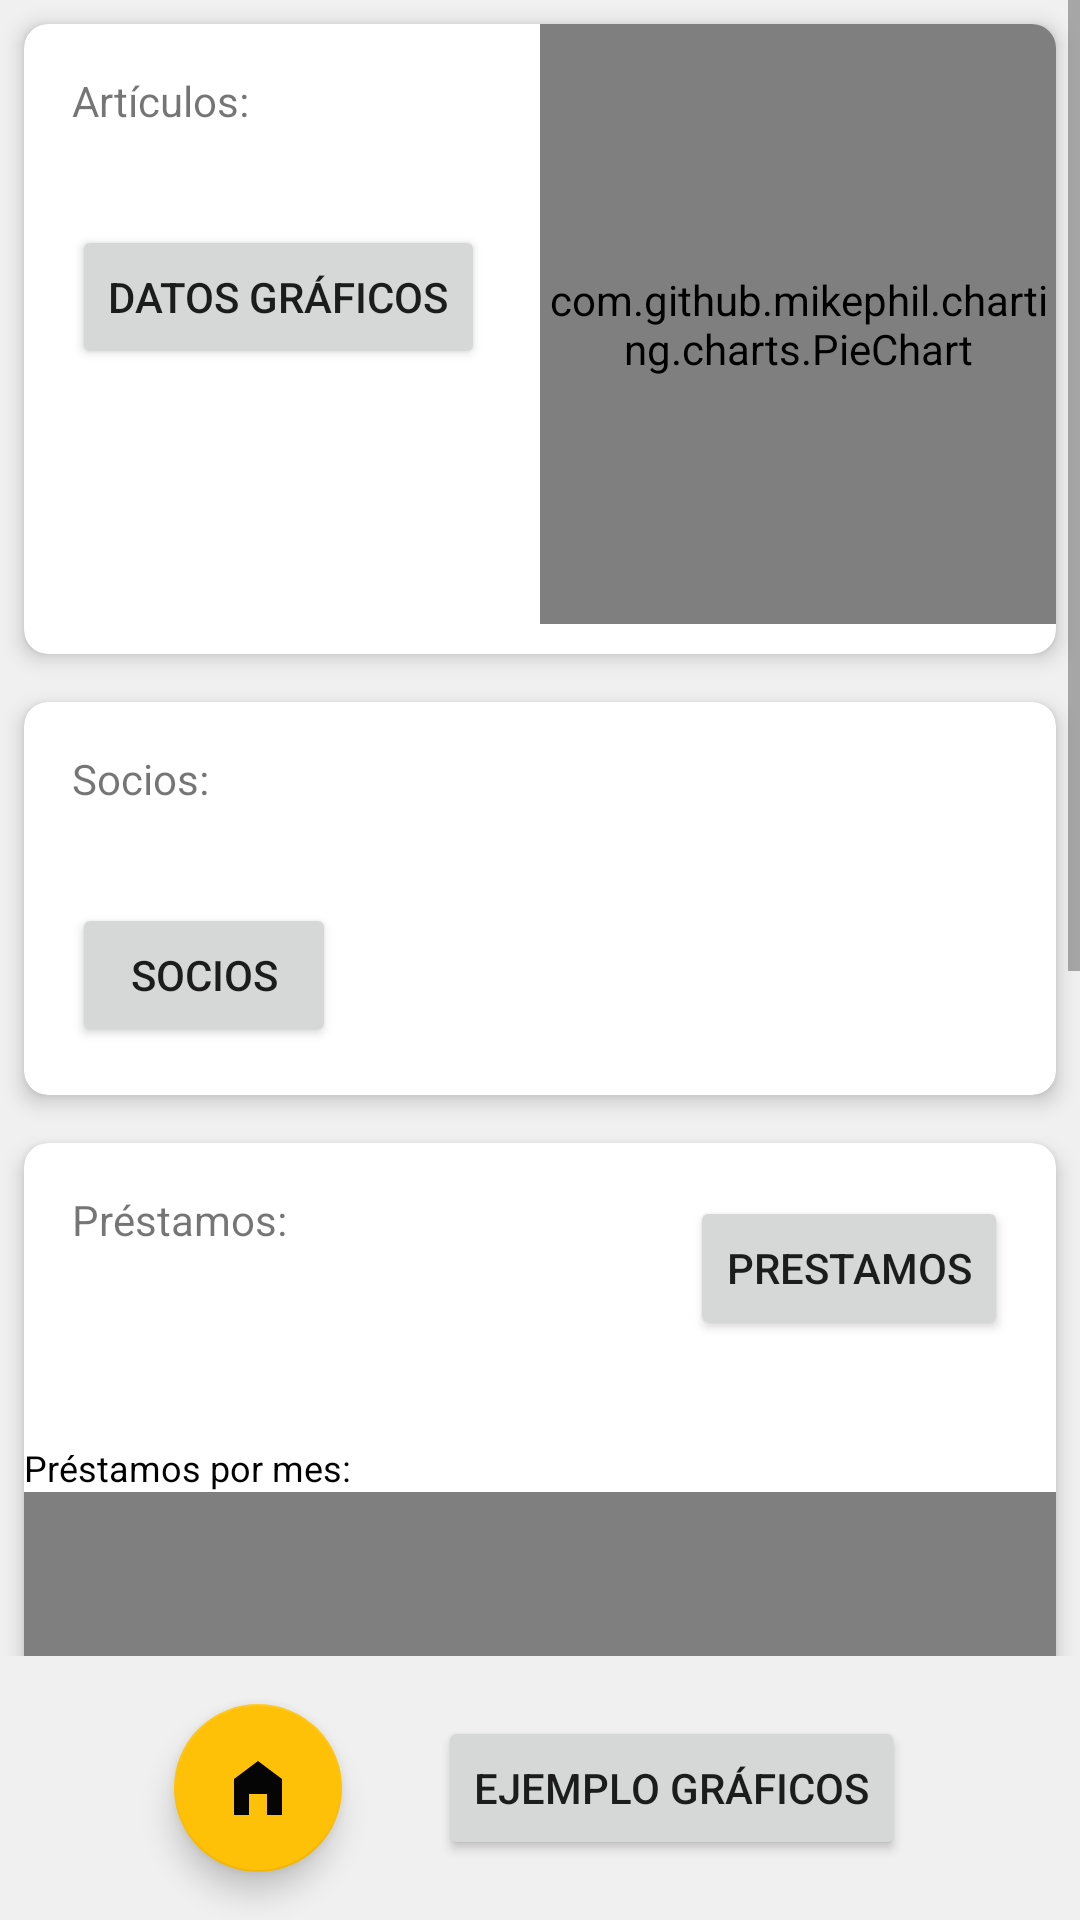

Locate icon controls on the screen. Image size 1080 x 1920, boxes as box(x1, y1, x2, y2).
home: box(174, 1704, 342, 1872)
